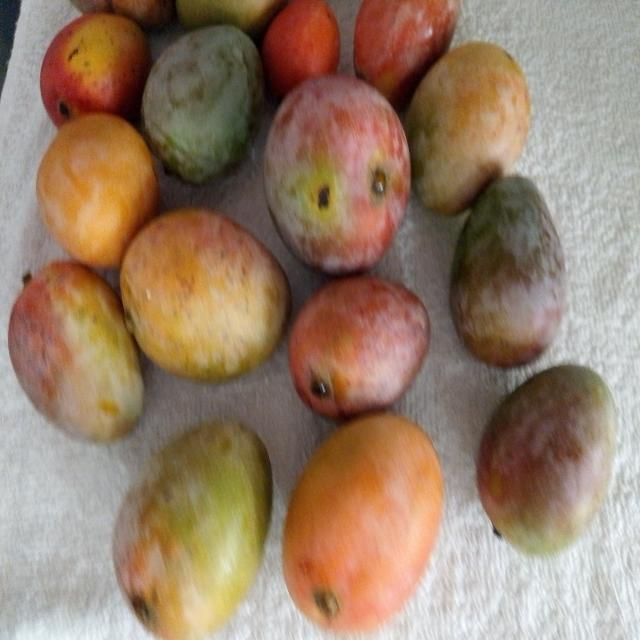mango: (283, 413, 443, 632), (114, 422, 272, 639), (120, 208, 290, 381), (264, 75, 410, 274), (477, 365, 617, 554), (8, 261, 143, 441), (450, 176, 566, 367), (406, 42, 530, 214), (289, 275, 430, 418), (142, 25, 263, 183), (40, 13, 152, 126)
